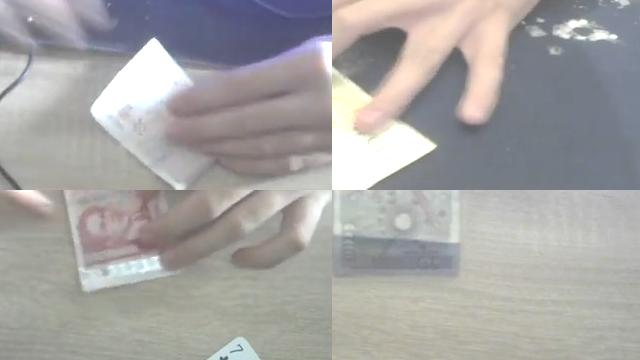10leva: (332, 66, 435, 190), (332, 190, 462, 278)
5leva: (62, 190, 327, 293), (63, 190, 254, 292), (89, 39, 215, 190)
